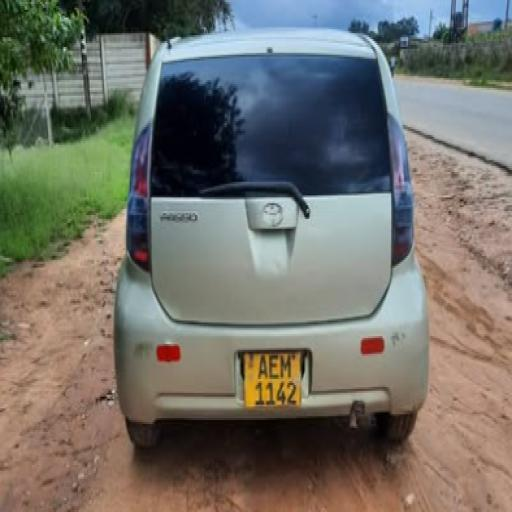number-plates: (245, 351, 300, 407)
